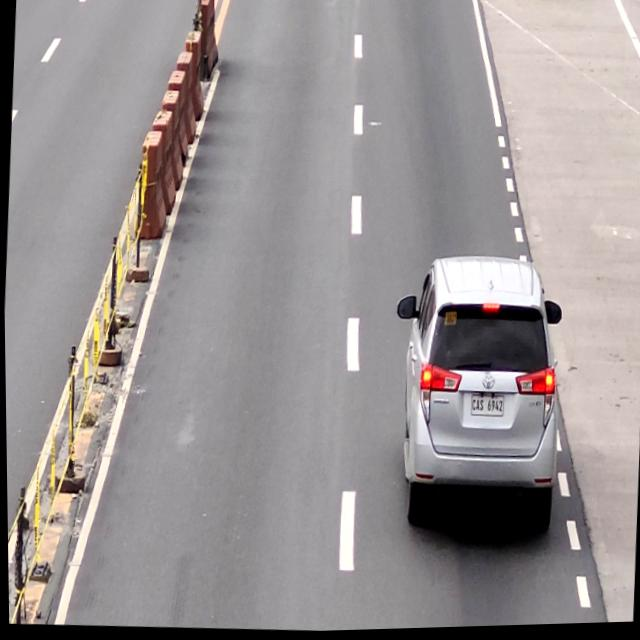Car: (384, 251, 568, 542)
License-Plate: (468, 397, 504, 420)
